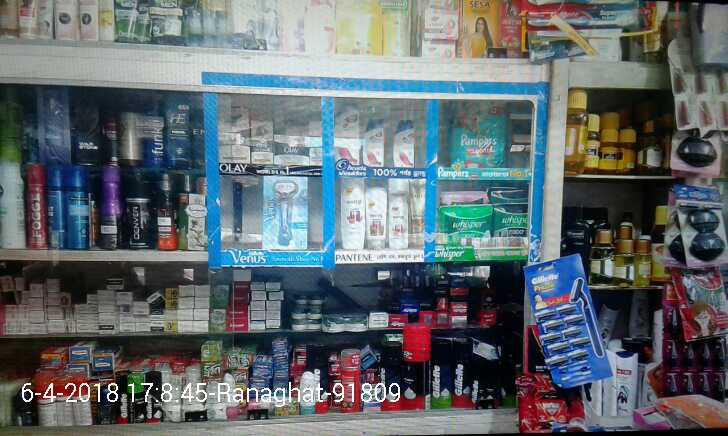gillete: (451, 338, 472, 408), (432, 339, 451, 408), (146, 371, 161, 423), (116, 373, 129, 422), (473, 360, 485, 405)
venus: (527, 252, 596, 364), (261, 174, 308, 250)
